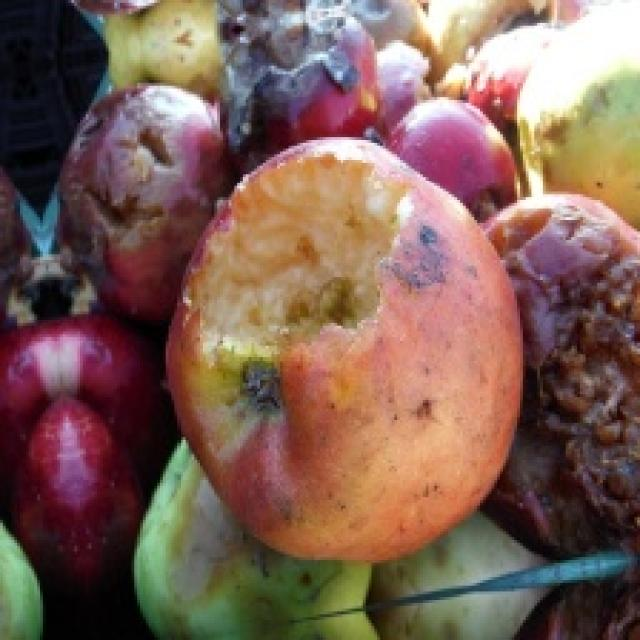rotten_apple: (178, 146, 518, 556), (527, 203, 640, 552), (70, 83, 192, 300), (234, 14, 369, 140)
